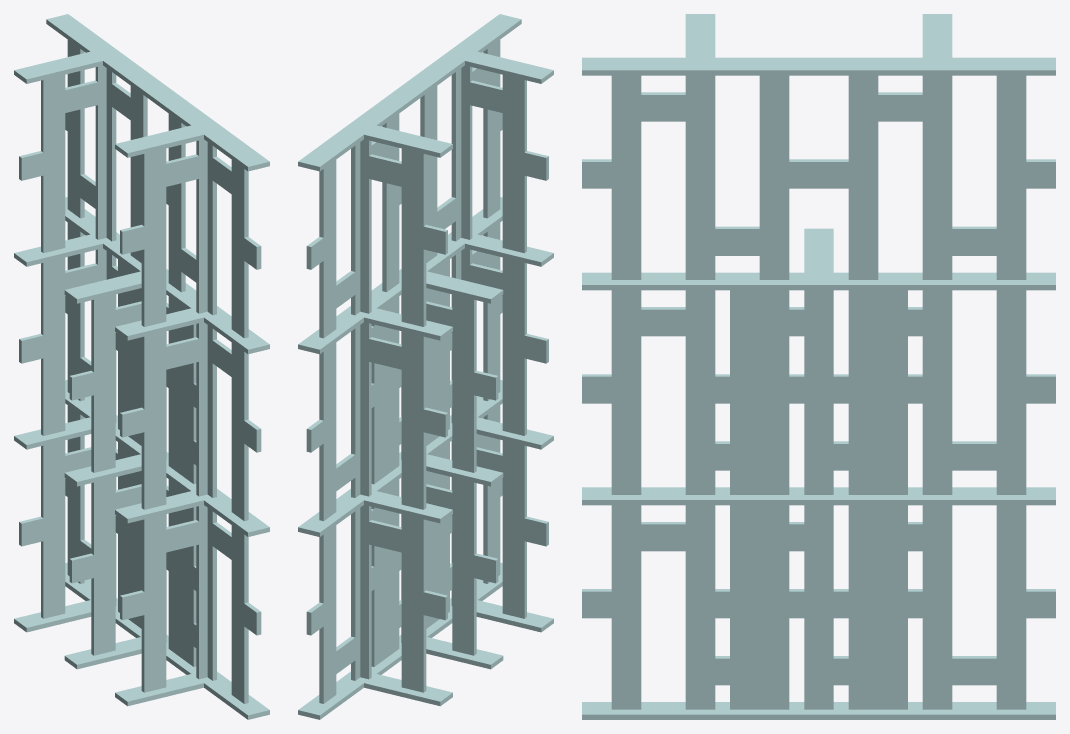
File: iron_bars_physics.fbx
3 renders of one model, left to right at view 1: azimuth 30°, elevation 25°; view 2: azimuth 150°, elevation 25°; view 3: azimuth 270°, elevation 25°, orthographic. The views are drawn at different scales.
Parts seen in each view (by area): view 1: iron_bars_01_physics, iron_bars_02_physics; view 2: iron_bars_01_physics, iron_bars_02_physics; view 3: iron_bars_01_physics, iron_bars_02_physics.
Boxes of the visible parts, x1,y1,x2,y2 form: iron_bars_01_physics: (14, 14, 269, 719); iron_bars_02_physics: (64, 234, 218, 676); iron_bars_01_physics: (298, 14, 553, 719); iron_bars_02_physics: (349, 234, 503, 674); iron_bars_01_physics: (582, 14, 1055, 719); iron_bars_02_physics: (700, 228, 937, 719).
Size of the model in its own units: 57.15 by 307 by 203.
